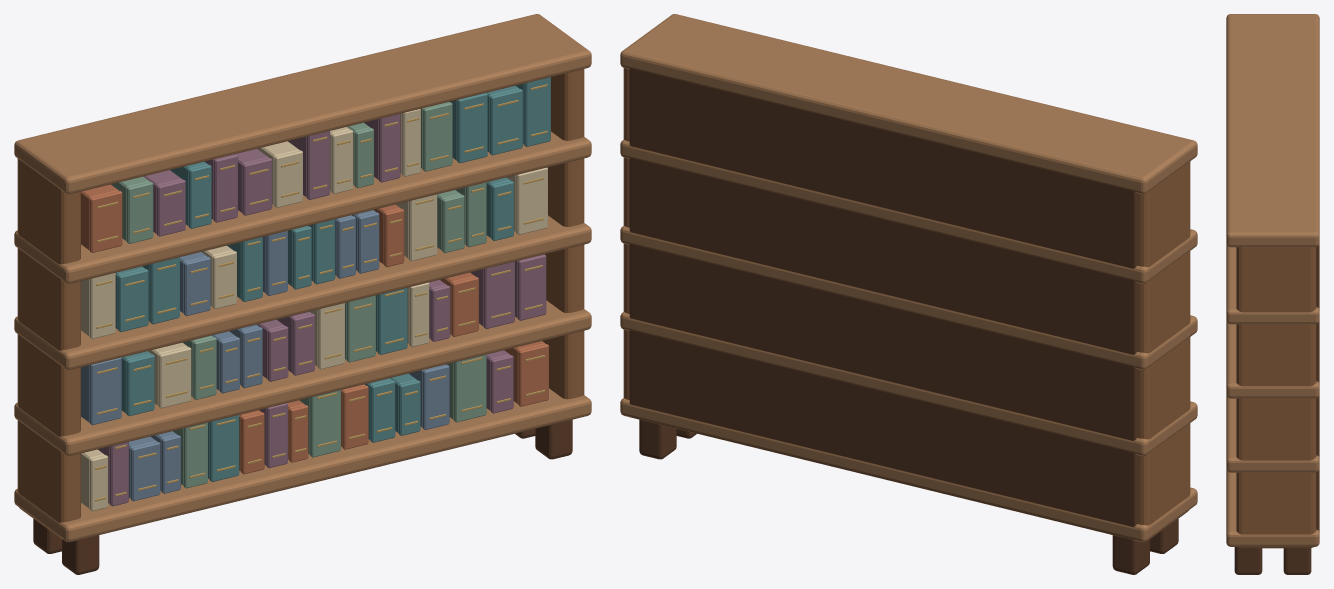
The model's file is WoodBookshelf.fbx.
3 renders of one model, left to right at view 1: azimuth 30°, elevation 25°; view 2: azimuth 150°, elevation 25°; view 3: azimuth 270°, elevation 25°, orthographic. The views are drawn at different scales.
Parts seen in each view (by area): view 1: WoodBookshelf; view 2: WoodBookshelf; view 3: WoodBookshelf.
Boxes of the visible parts, left/top/right/bottom form: WoodBookshelf: left=14, top=14, right=591, bottom=574; WoodBookshelf: left=620, top=14, right=1197, bottom=574; WoodBookshelf: left=1226, top=14, right=1319, bottom=574.
Bounding box in the file's own units: 3.2 × 2.35 × 0.57.
